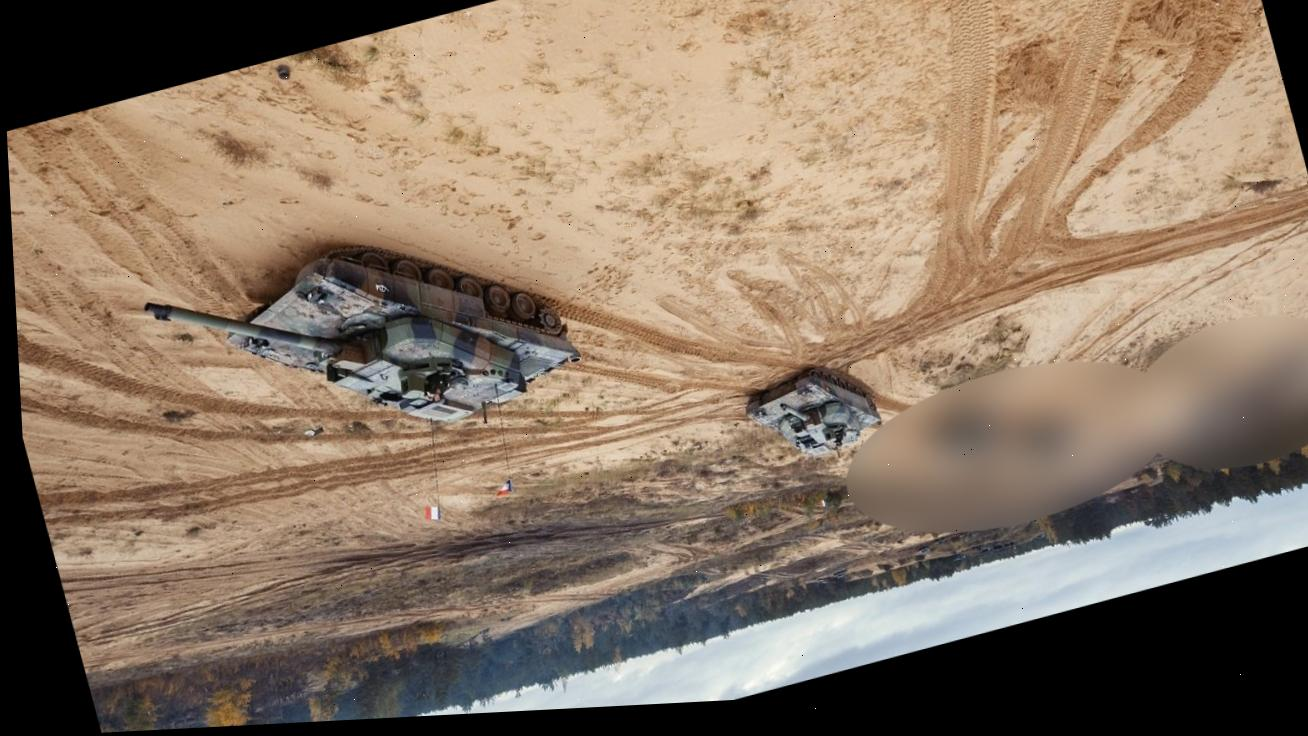tank: (139, 191, 597, 492), (739, 354, 890, 471)
